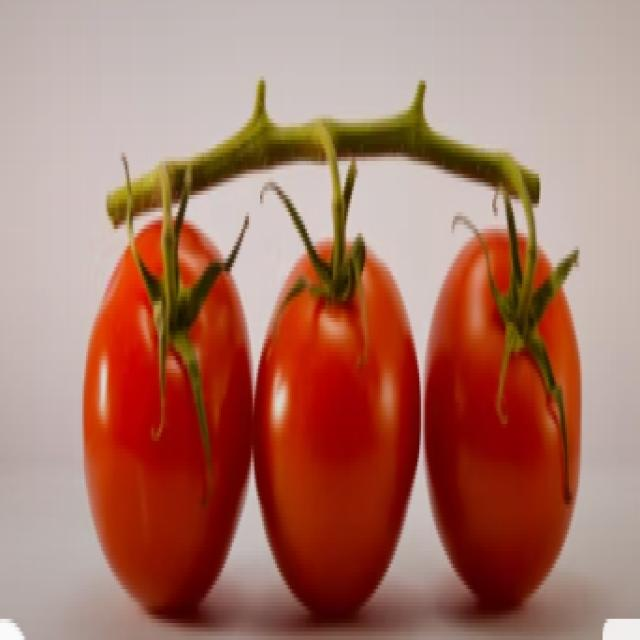Tomato: (426, 192, 586, 614), (86, 211, 250, 613), (262, 194, 418, 603)
